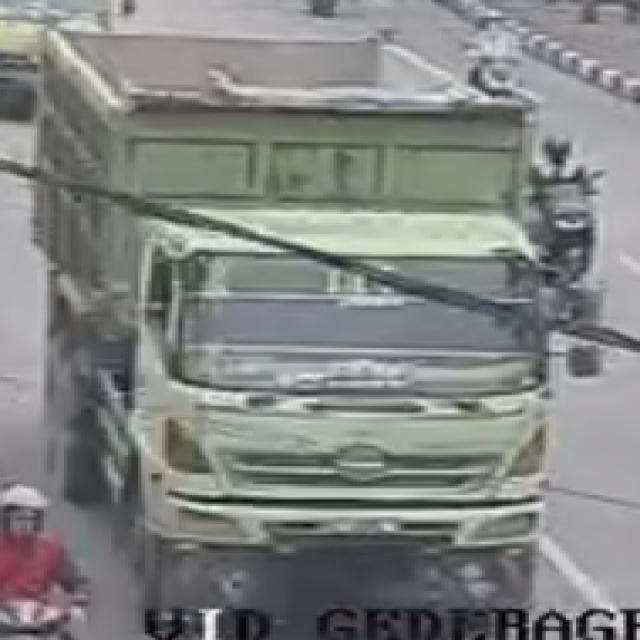truck: (35, 16, 618, 620)
